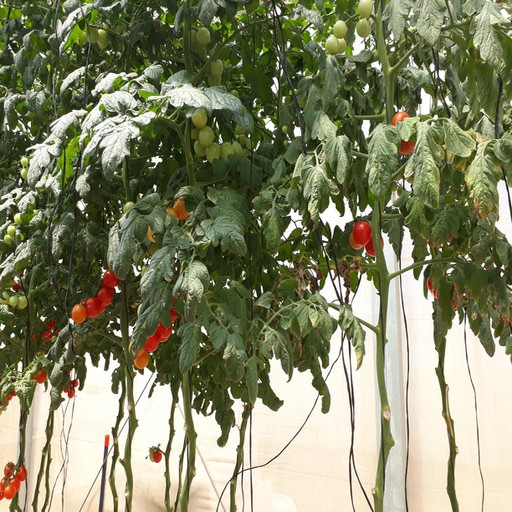green tomato bunch: (189, 108, 242, 164), (325, 1, 373, 56), (185, 26, 225, 89), (4, 207, 44, 245), (20, 152, 39, 182), (1, 290, 26, 311)
red tomato bunch: (134, 286, 179, 368), (70, 268, 125, 325), (1, 365, 50, 411), (426, 273, 464, 311), (349, 217, 382, 256), (1, 462, 27, 502), (393, 110, 415, 156), (32, 317, 64, 344), (62, 363, 79, 400)
